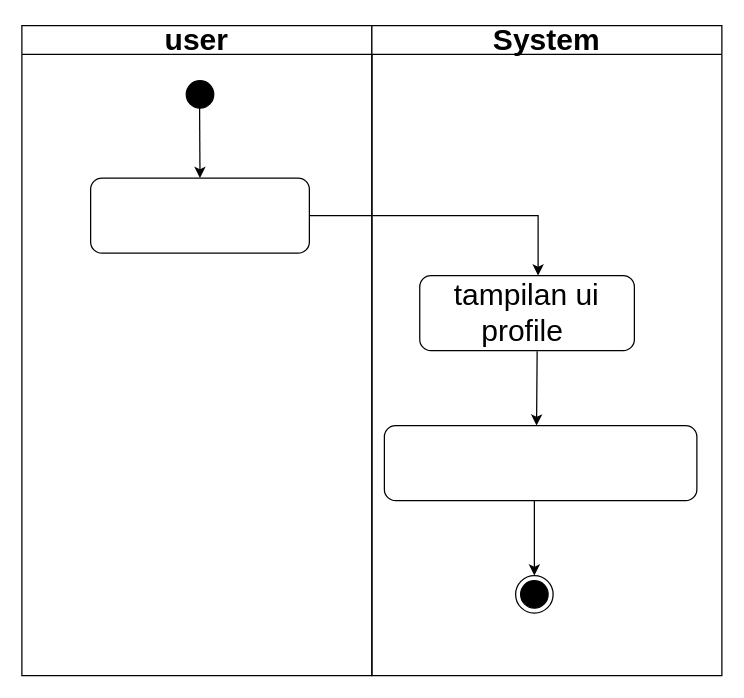
The diagram is 744 pixels wide and 698 high, and some of its shapes have lost their labels. The centre of each missing label's shape, as x and y in pixels:
"Navigasi profile" goes at pixel 199 215.
"tampil histori presensi" goes at pixel 540 462.
